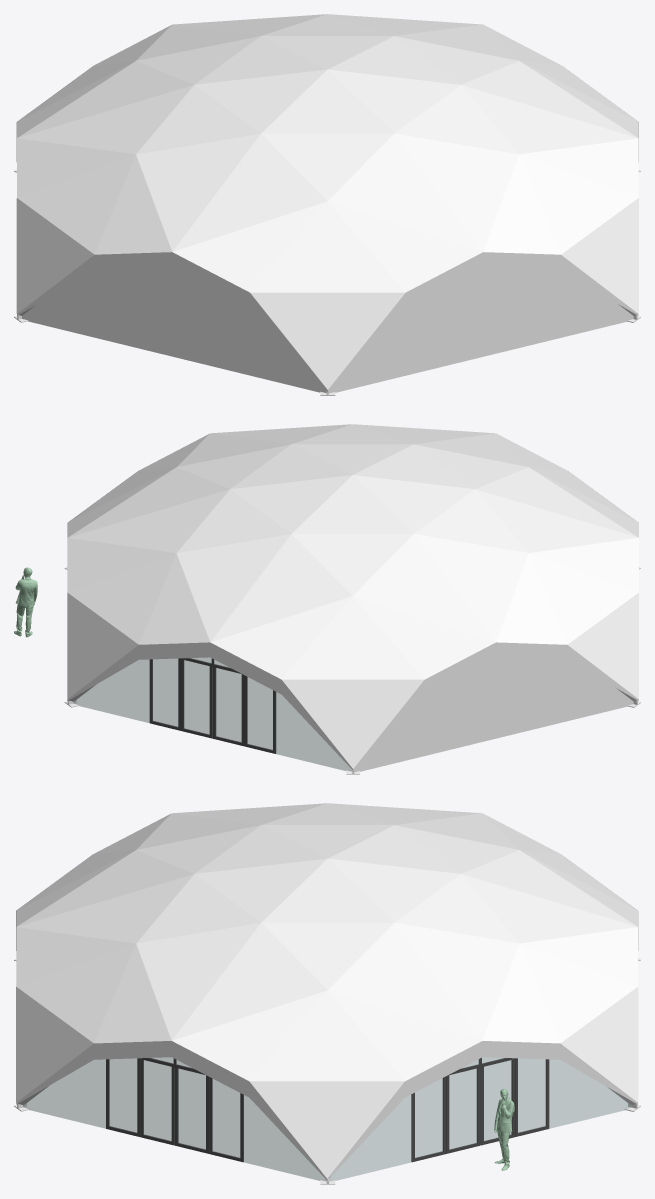
The model's file is hexa170.glb.
3 renders of one model, top to bottom at view 1: azimuth 30°, elevation 25°; view 2: azimuth 150°, elevation 25°; view 3: azimuth 270°, elevation 25°, orthographic. The views are drawn at different scales.
Parts seen in each view (by area): view 1: tent, sidewall-1, sidewall-2, logo-area-4, logo-area-5, logo-area-3; view 2: tent, sidewall-3, windows-1, logo-area-6, logo-area-1, logo-area-5, frame-1, human; view 3: tent, windows-3, windows-2, logo-area-2, logo-area-1, logo-area-3, frame-2, frame-3, human.
Part boxes in pixels (x1=…): tent: x1=17, y1=14, x2=638, y2=391; sidewall-1: x1=328, y1=268, x2=633, y2=393; sidewall-2: x1=22, y1=268, x2=326, y2=392; logo-area-4: x1=250, y1=292, x2=404, y2=389; logo-area-5: x1=16, y1=198, x2=93, y2=313; logo-area-3: x1=561, y1=198, x2=638, y2=313; tent: x1=67, y1=424, x2=638, y2=770; sidewall-3: x1=354, y1=657, x2=633, y2=771; windows-1: x1=73, y1=657, x2=352, y2=771; logo-area-6: x1=282, y1=679, x2=424, y2=768; logo-area-1: x1=67, y1=593, x2=138, y2=698; logo-area-5: x1=568, y1=593, x2=638, y2=698; frame-1: x1=149, y1=658, x2=276, y2=753; human: x1=14, y1=567, x2=37, y2=637; tent: x1=16, y1=803, x2=637, y2=1180; windows-3: x1=23, y1=1057, x2=326, y2=1180; windows-2: x1=329, y1=1057, x2=631, y2=1180; logo-area-2: x1=249, y1=1081, x2=404, y2=1178; logo-area-1: x1=561, y1=987, x2=638, y2=1102; logo-area-3: x1=16, y1=987, x2=93, y2=1102; frame-2: x1=411, y1=1057, x2=549, y2=1162; frame-3: x1=106, y1=1058, x2=243, y2=1162; human: x1=494, y1=1089, x2=514, y2=1170.
Size of the model in its own units: 162 by 43.55 by 141.
